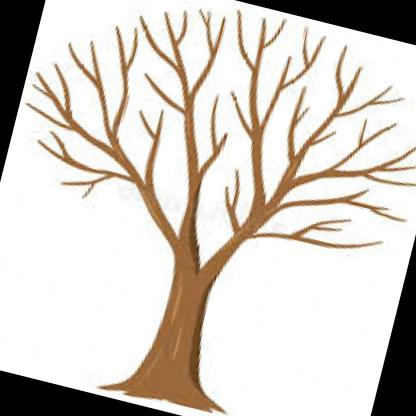trunk_bark: (144, 275, 222, 376)
